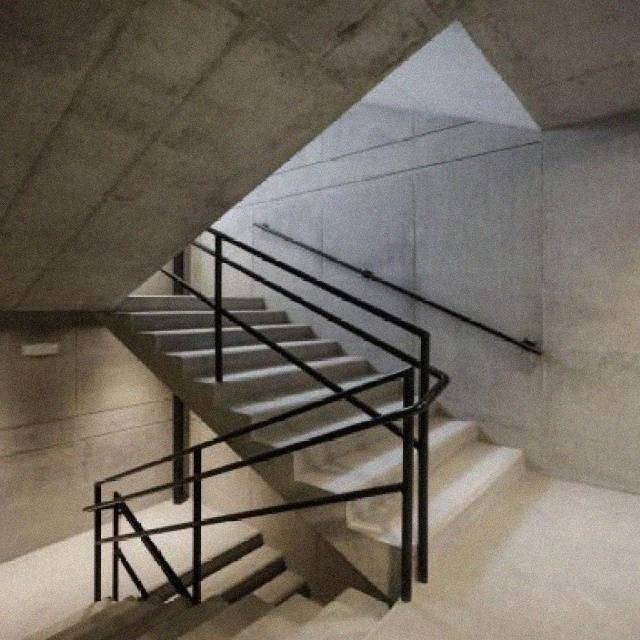stair: (79, 189, 585, 603)
